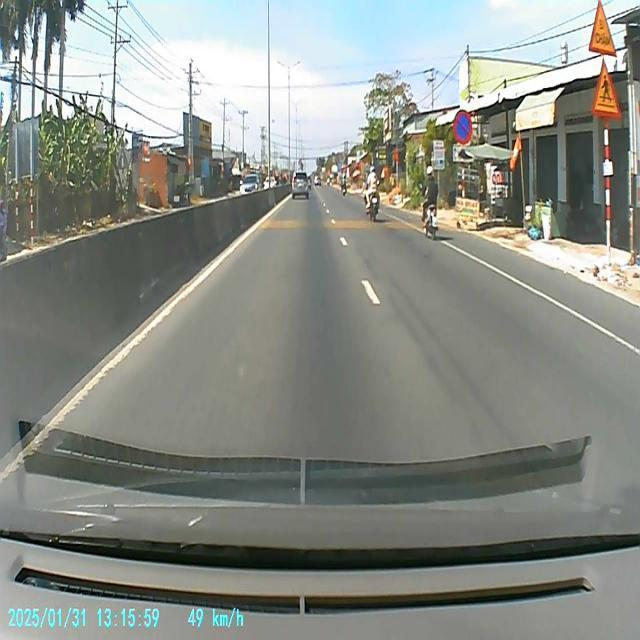131a-cam-do-xe: (452, 108, 473, 146)
224-duong-nguoi-di-bo-cat-ngang: (591, 56, 621, 118)
245-di-cham: (590, 1, 620, 60)
